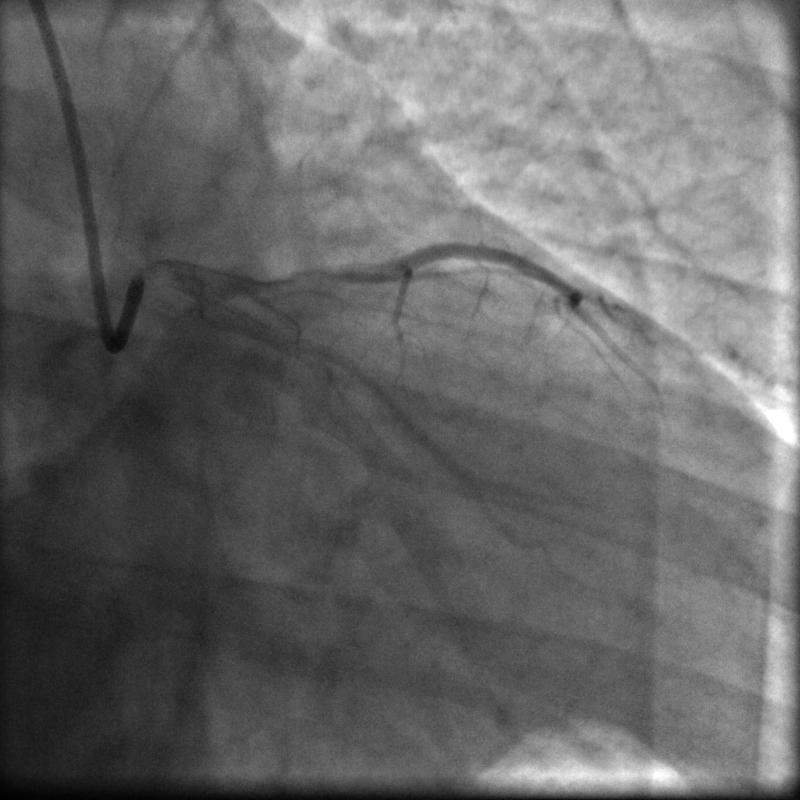Stenosis: (270, 262, 380, 290)
